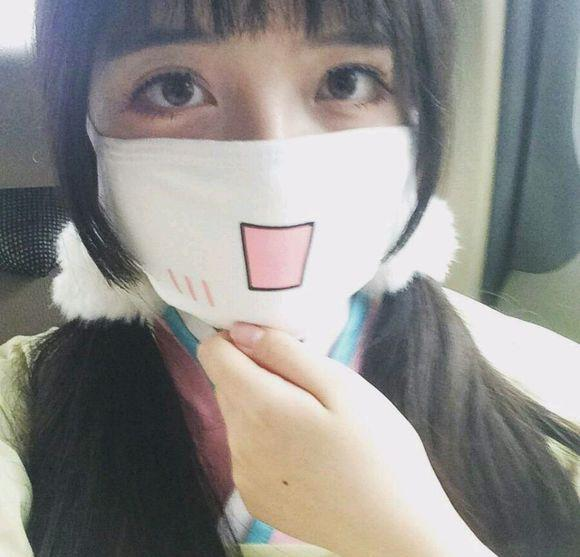OK: (82, 24, 414, 335)
